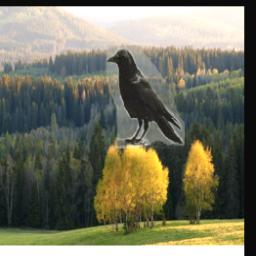Crow: (107, 45, 185, 149)
